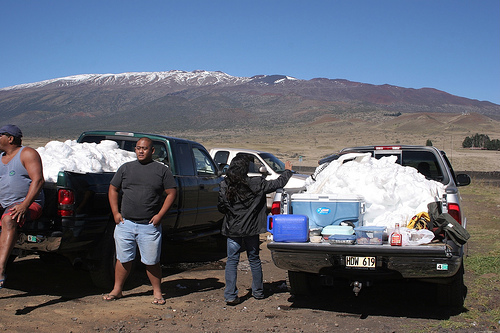without_mask: (133, 137, 155, 162), (1, 130, 22, 156)
